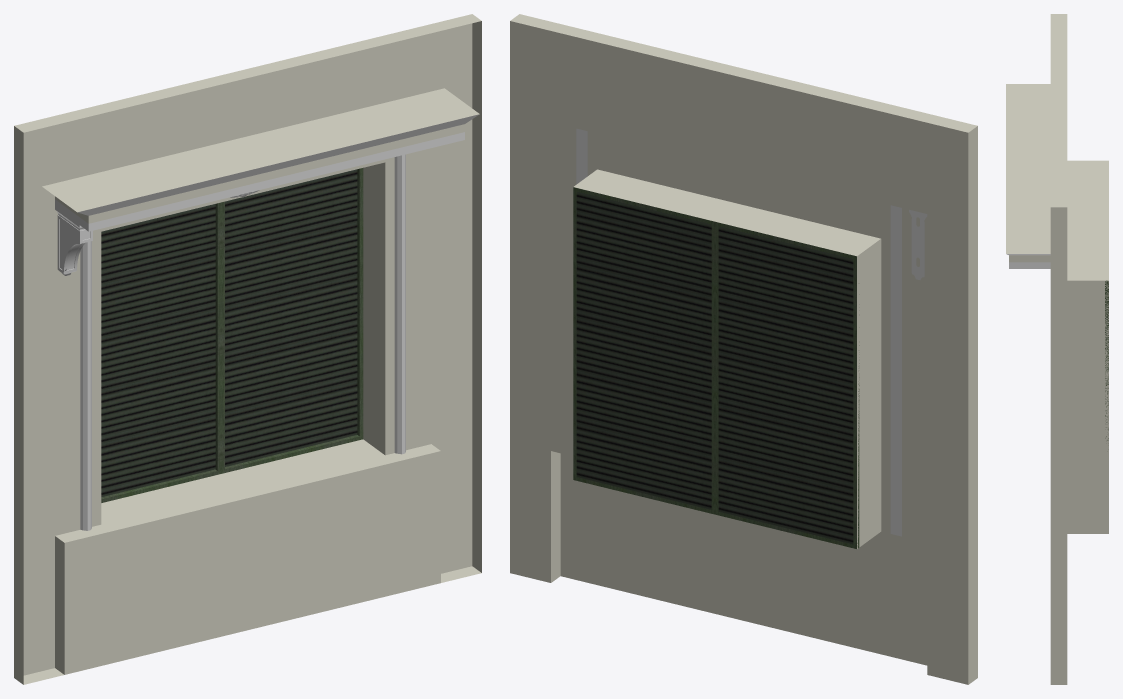
The model's file is window_corner_f2_3.glb.
3 renders of one model, left to right at view 1: azimuth 30°, elevation 25°; view 2: azimuth 150°, elevation 25°; view 3: azimuth 270°, elevation 25°, orthographic. The views are drawn at different scales.
Visible parts, largest first — view 1: _C-Component#3 (Loose Mesh).009; view 2: _C-Component#3 (Loose Mesh).009; view 3: _C-Component#3 (Loose Mesh).009.
Part boxes in pixels (bbox=[...]): _C-Component#3 (Loose Mesh).009: bbox=[14, 14, 481, 684]; _C-Component#3 (Loose Mesh).009: bbox=[510, 14, 977, 684]; _C-Component#3 (Loose Mesh).009: bbox=[1006, 14, 1108, 684].
Bounding box in the file's own units: 3.62 × 4.17 × 0.8135.
4 materials, 2 textured.
